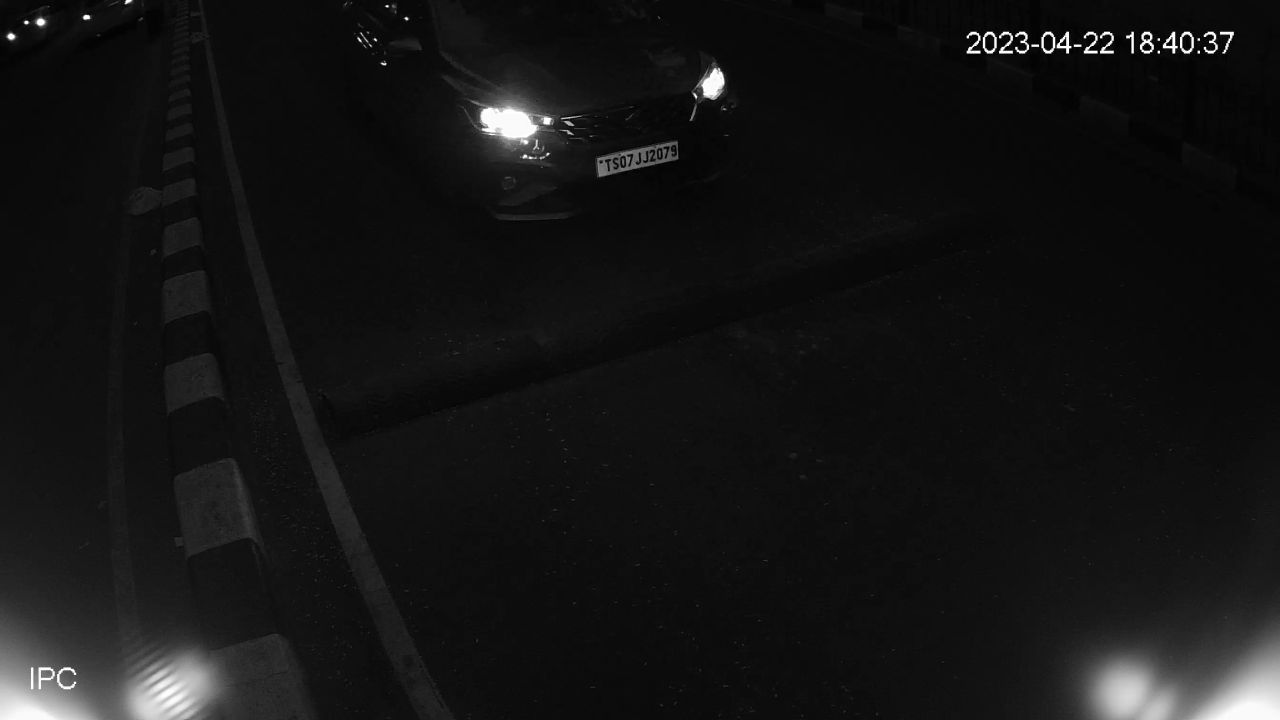license_plate: (593, 134, 684, 182)
